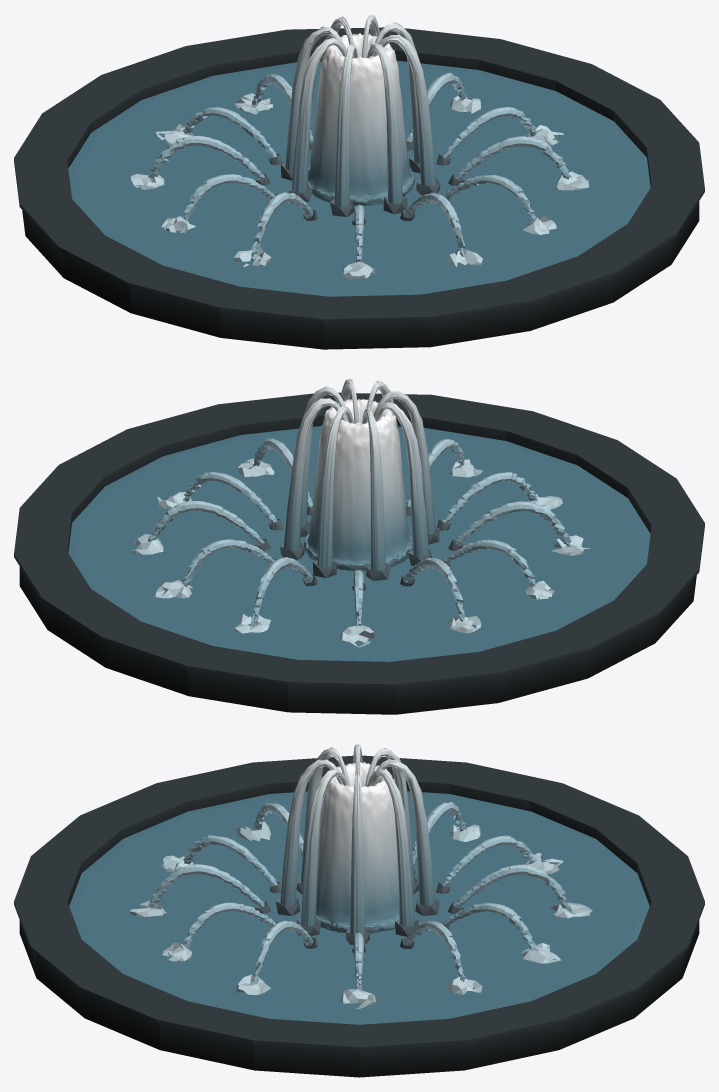
File: VMESFountain.fbx
The picture shows the model from 3 angles, top to bottom: view 1: azimuth 30°, elevation 25°; view 2: azimuth 150°, elevation 25°; view 3: azimuth 270°, elevation 25°; orthographic projection.
Parts seen in each view (by area): view 1: Cylinder.047; view 2: Cylinder.047; view 3: Cylinder.047.
Part boxes in pixels (left/top/right/bottom): Cylinder.047: left=14, top=14, right=704, bottom=349; Cylinder.047: left=14, top=378, right=704, bottom=714; Cylinder.047: left=14, top=743, right=704, bottom=1077.
Size of the model in its own units: 1956 by 548 by 1956.
